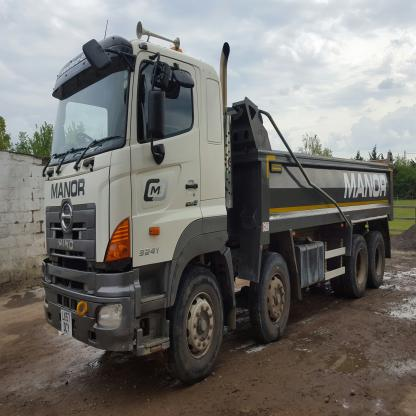dump_truck: (37, 21, 396, 385)
